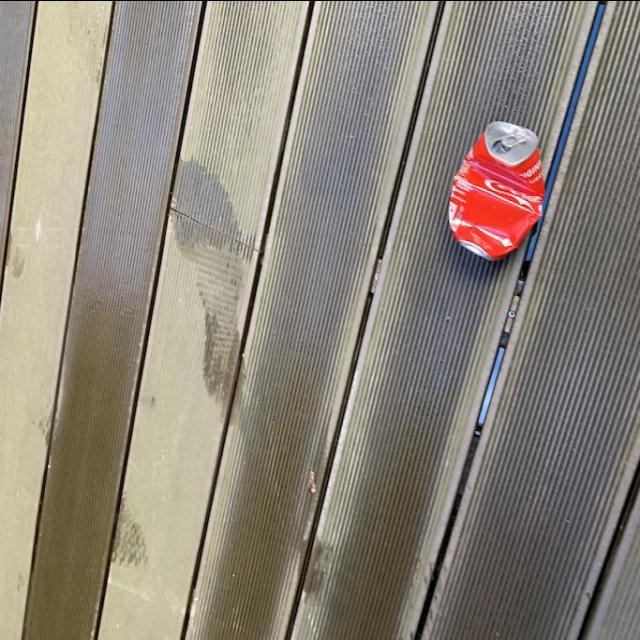Aluminum Can: (445, 111, 553, 256)
